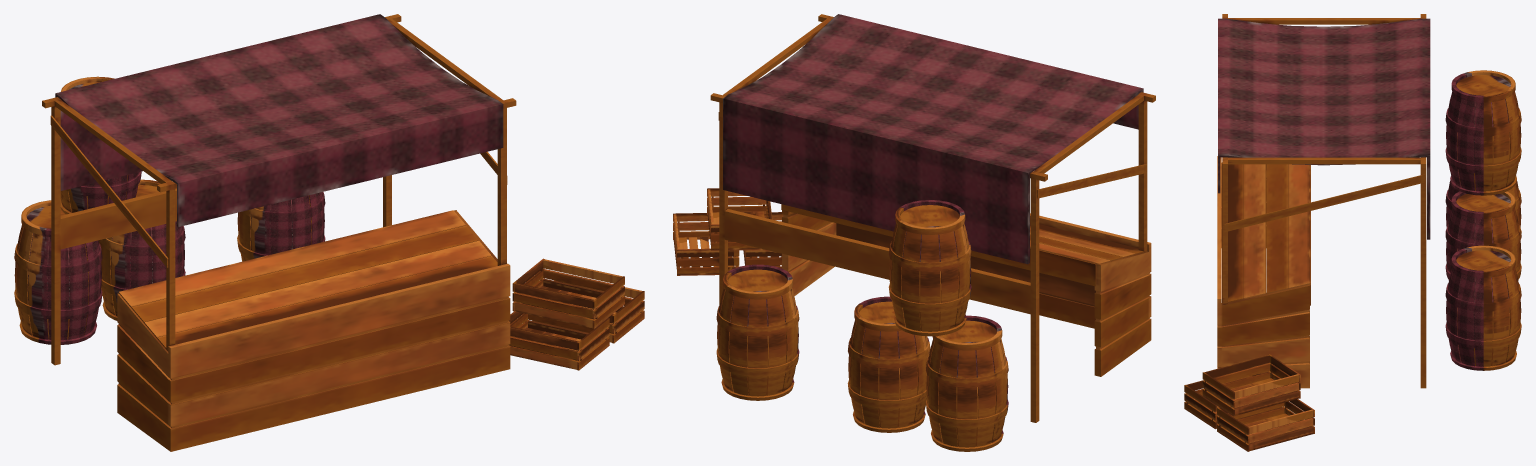
The model's file is Concept_1.fbx.
3 views of the same model, side by side, from view 1: azimuth 30°, elevation 25°; view 2: azimuth 150°, elevation 25°; view 3: azimuth 270°, elevation 25° (orthographic). The views are drawn at different scales.
Parts seen in each view (by area): view 1: Cube.174, Cube.175, Circle.104, Cube.178, Circle.105, Circle.107, Cube.176, Circle.106, Cube.177; view 2: Cube.174, Cube.175, Circle.107, Circle.106, Circle.104, Circle.105, Cube.177, Cube.178, Cube.176; view 3: Cube.174, Cube.175, Circle.106, Circle.107, Cube.178, Circle.105, Cube.177, Cube.176, Circle.104.
Boxes of the visible parts, <box> form: Cube.174: <box>42,14,516,365</box>; Cube.175: <box>117,210,510,451</box>; Circle.104: <box>14,200,102,344</box>; Cube.178: <box>512,258,624,328</box>; Circle.105: <box>98,179,185,320</box>; Circle.107: <box>237,192,325,261</box>; Cube.176: <box>508,311,609,370</box>; Circle.106: <box>60,76,141,214</box>; Cube.177: <box>532,280,644,343</box>; Cube.174: <box>710,14,1155,422</box>; Cube.175: <box>781,204,1151,376</box>; Circle.107: <box>716,264,799,400</box>; Circle.106: <box>888,200,971,336</box>; Circle.104: <box>926,315,1008,451</box>; Circle.105: <box>847,296,930,432</box>; Cube.177: <box>673,213,739,275</box>; Cube.178: <box>707,188,772,250</box>; Cube.176: <box>743,212,783,268</box>; Cube.174: <box>1218,14,1430,388</box>; Cube.175: <box>1217,156,1310,388</box>; Circle.106: <box>1445,70,1521,195</box>; Circle.107: <box>1445,245,1521,370</box>; Cube.178: <box>1202,354,1300,416</box>; Circle.105: <box>1445,191,1521,280</box>; Cube.177: <box>1217,399,1314,451</box>; Cube.176: <box>1184,367,1281,429</box>; Circle.104: <box>1445,180,1521,233</box>.
Size of the model in its own units: 233 by 119 by 158.
